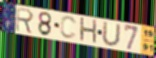7: (124, 24, 140, 52)
8: (37, 11, 53, 38)
C: (59, 15, 78, 41)
H: (79, 16, 99, 46)
R: (15, 7, 35, 35)
U: (102, 21, 122, 48)
